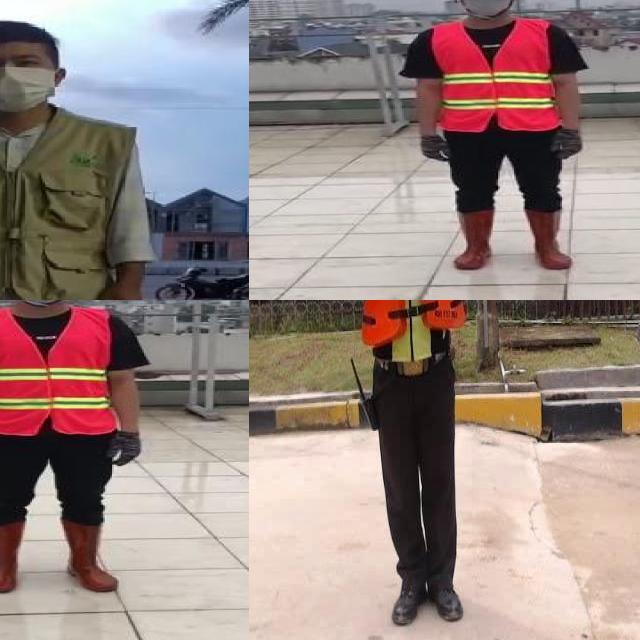boots: (60, 519, 124, 595), (525, 206, 576, 270), (450, 209, 502, 270), (390, 576, 427, 629), (428, 576, 465, 626), (0, 519, 23, 594)
face_mask: (0, 51, 59, 106), (456, 0, 514, 16)
hand_glove: (107, 430, 149, 469), (551, 129, 587, 160), (418, 134, 452, 161)
hand_noglove: (93, 277, 150, 300)
head_nohelmet: (0, 17, 67, 60)
person: (249, 300, 617, 640), (398, 0, 601, 273), (0, 17, 158, 300), (0, 300, 145, 597)
vest: (0, 102, 147, 300), (0, 311, 113, 436), (434, 19, 555, 133), (360, 300, 465, 364)
